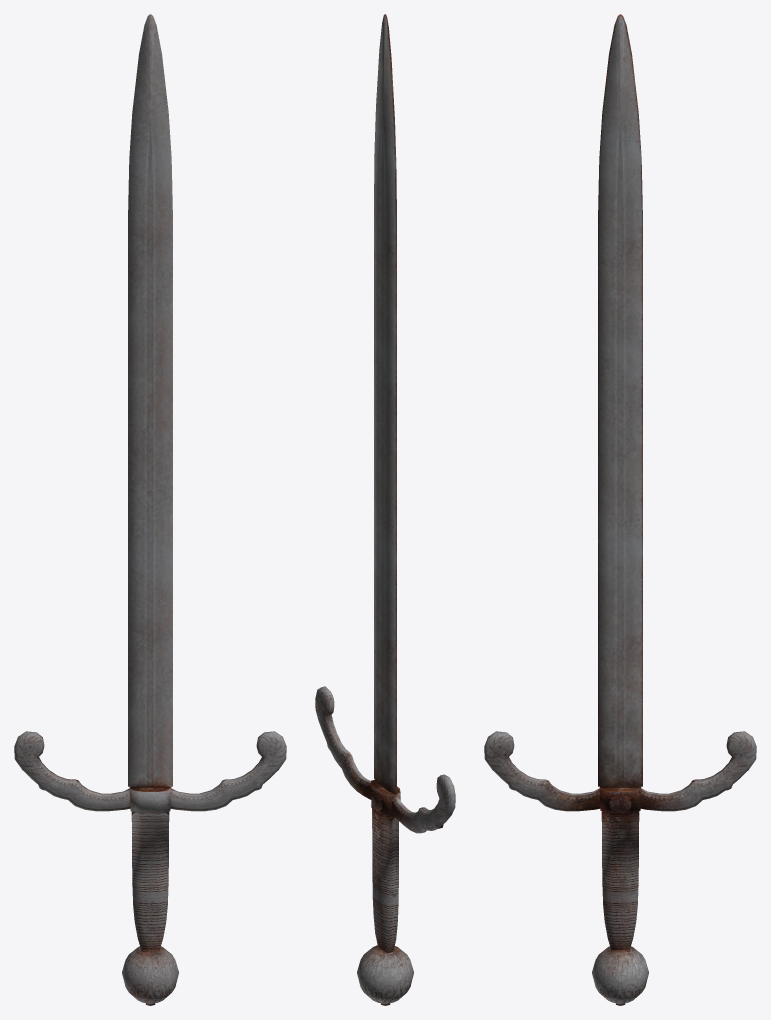
The model's file is Sword.fbx.
The picture shows the model from 3 angles, left to right: view 1: azimuth 90°, elevation 25°; view 2: azimuth 210°, elevation 25°; view 3: azimuth 270°, elevation 25°; orthographic projection.
Parts seen in each view (by area): view 1: SM_SwordA1_LOD0; view 2: SM_SwordA1_LOD0; view 3: SM_SwordA1_LOD0.
Part boxes in pixels (left/top/right/bottom): SM_SwordA1_LOD0: left=14, top=14, right=286, bottom=1005; SM_SwordA1_LOD0: left=315, top=14, right=455, bottom=1005; SM_SwordA1_LOD0: left=484, top=14, right=756, bottom=1005.
Size of the model in its own units: 6.69 by 127 by 31.78.
